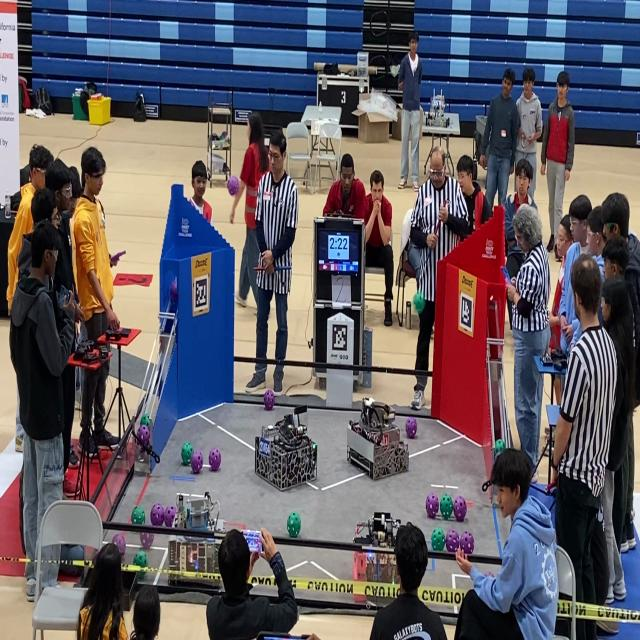artifact_green: (431, 527, 446, 552), (287, 512, 301, 538), (440, 494, 453, 519), (413, 291, 425, 314), (133, 550, 148, 568), (181, 443, 193, 465), (132, 506, 145, 525), (494, 439, 505, 455), (140, 414, 150, 426), (220, 131, 227, 139), (312, 442, 317, 450)
artifact_purple: (453, 496, 467, 522), (426, 493, 439, 518), (112, 533, 126, 556), (460, 532, 474, 554), (150, 504, 164, 526), (137, 425, 151, 447), (190, 451, 203, 473), (446, 530, 459, 552), (209, 448, 221, 471), (263, 389, 275, 411), (406, 417, 417, 439), (165, 505, 176, 527), (228, 176, 240, 196), (140, 533, 154, 549), (170, 278, 178, 303), (485, 571, 495, 577)
